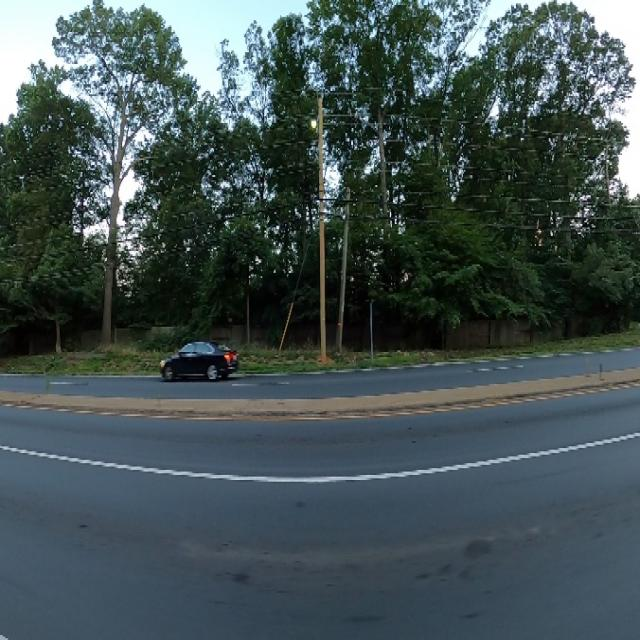car: (148, 329, 242, 388)
